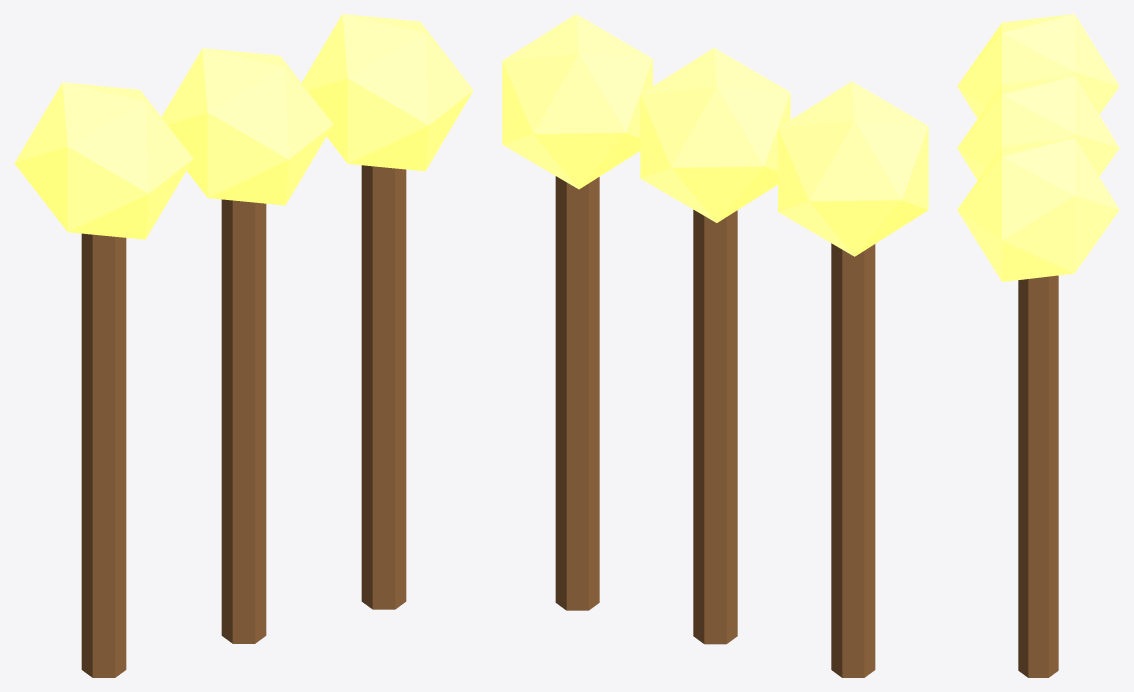
Rendered from skewers.glb.
The picture shows the model from 3 angles, left to right: view 1: azimuth 30°, elevation 25°; view 2: azimuth 150°, elevation 25°; view 3: azimuth 270°, elevation 25°; orthographic projection. The views are drawn at different scales.
Parts seen in each view (by area): view 1: stick.002, stick.001, stick, meat, meat.001, meat.002; view 2: meat, stick.001, stick.002, stick, meat.002, meat.001; view 3: stick.002, meat.002, meat, meat.001.
Part boxes in pixels (<box>): stick.002: <box>361,165,406,609</box>; stick.001: <box>221,199,266,643</box>; stick: <box>81,233,126,677</box>; meat: <box>14,82,193,239</box>; meat.001: <box>161,48,333,205</box>; meat.002: <box>301,14,473,171</box>; meat: <box>778,81,928,256</box>; stick.001: <box>693,209,737,644</box>; stick.002: <box>555,176,599,610</box>; stick: <box>831,243,875,677</box>; meat.002: <box>502,14,652,189</box>; meat.001: <box>640,48,790,222</box>; stick.002: <box>1018,275,1058,677</box>; meat.002: <box>957,137,1119,281</box>; meat: <box>957,14,1119,118</box>; meat.001: <box>957,76,1119,180</box>.
Size of the model in its own units: 0.5389 by 0.7101 by 0.2.
